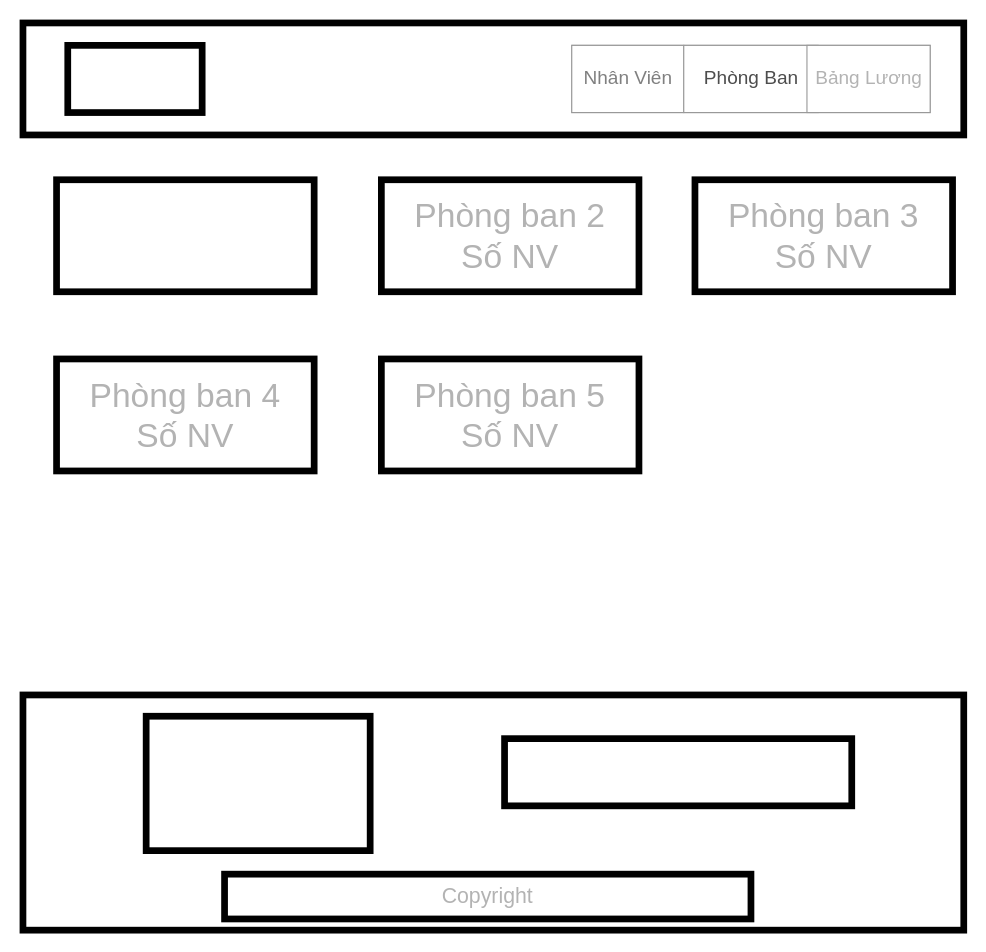
Image size: 986x952. Some labels were removed from this diagram. The centre of each missing label's shape, as x and y in pixels:
"Các icon mạng xã hội" goes at point (678, 772).
"Phòng ban 1 Số NV" goes at point (185, 235).
"Thông tin về website" goes at point (257, 782).
"Trang chủ" goes at point (134, 78).
